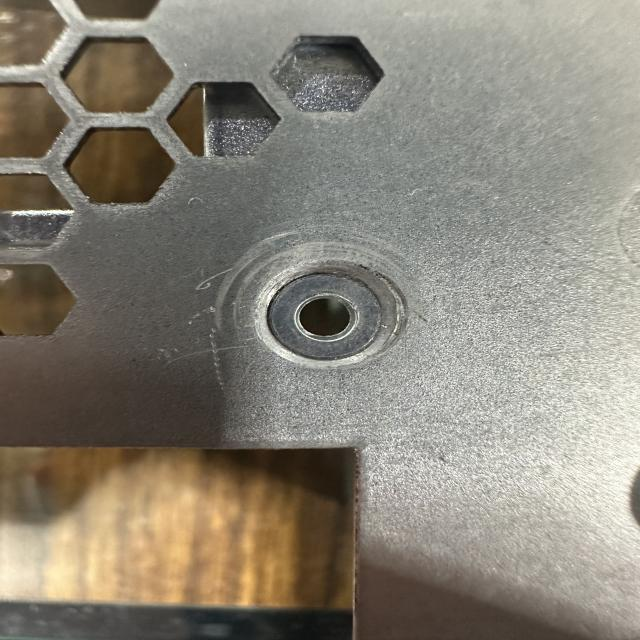Missing screw: (236, 252, 417, 380)
